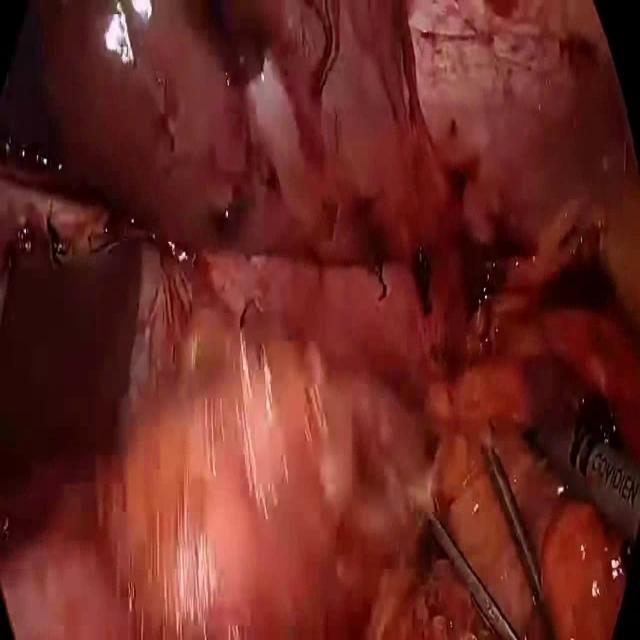surgical-area: (0, 0, 640, 639)
surgical-tool: (534, 427, 640, 548), (428, 516, 520, 639), (486, 450, 545, 623)
